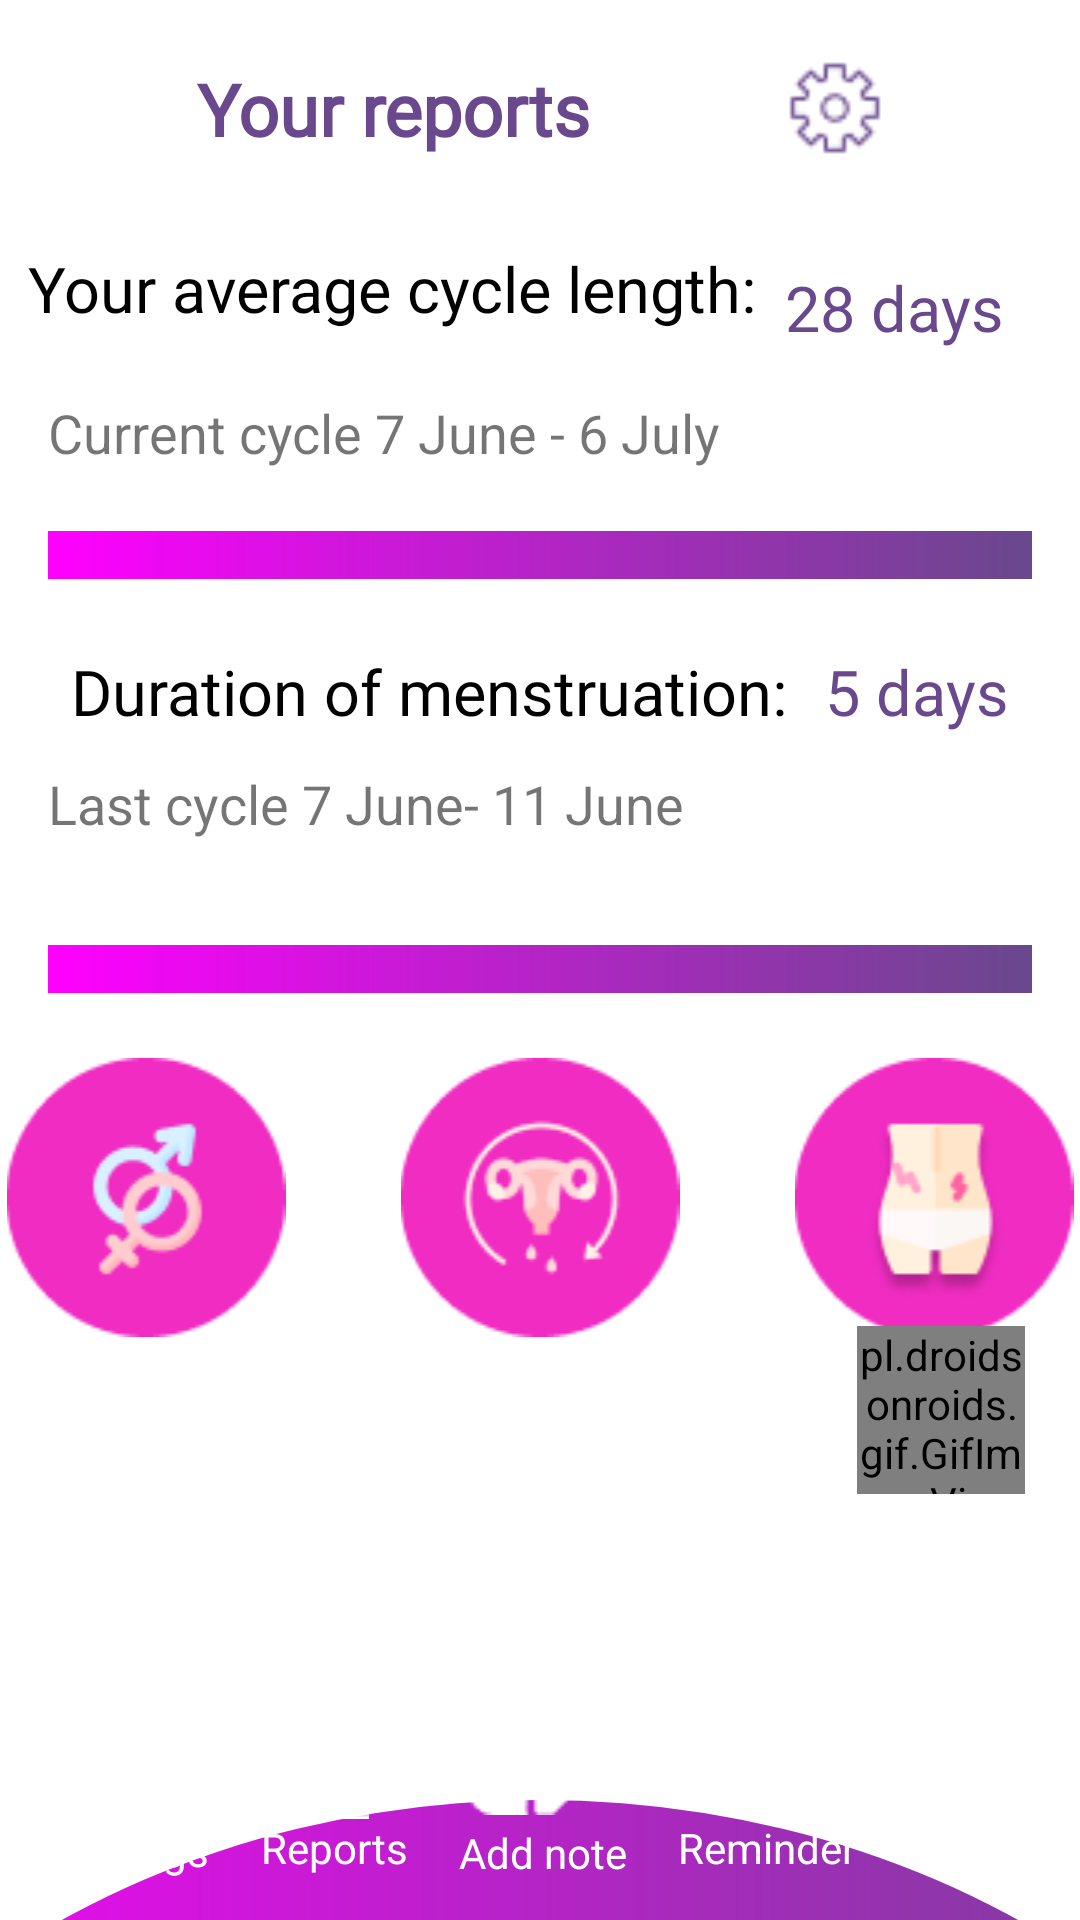

Locate icon controls on the screen. Image size 1080 x 1920, boxes as bbox=(x1, y1, x2, y2).
cycle: bbox=(401, 1058, 680, 1337)
setting: bbox=(789, 62, 881, 154)
sex: bbox=(7, 1058, 286, 1337)
symptoms: bbox=(795, 1058, 1074, 1337)
